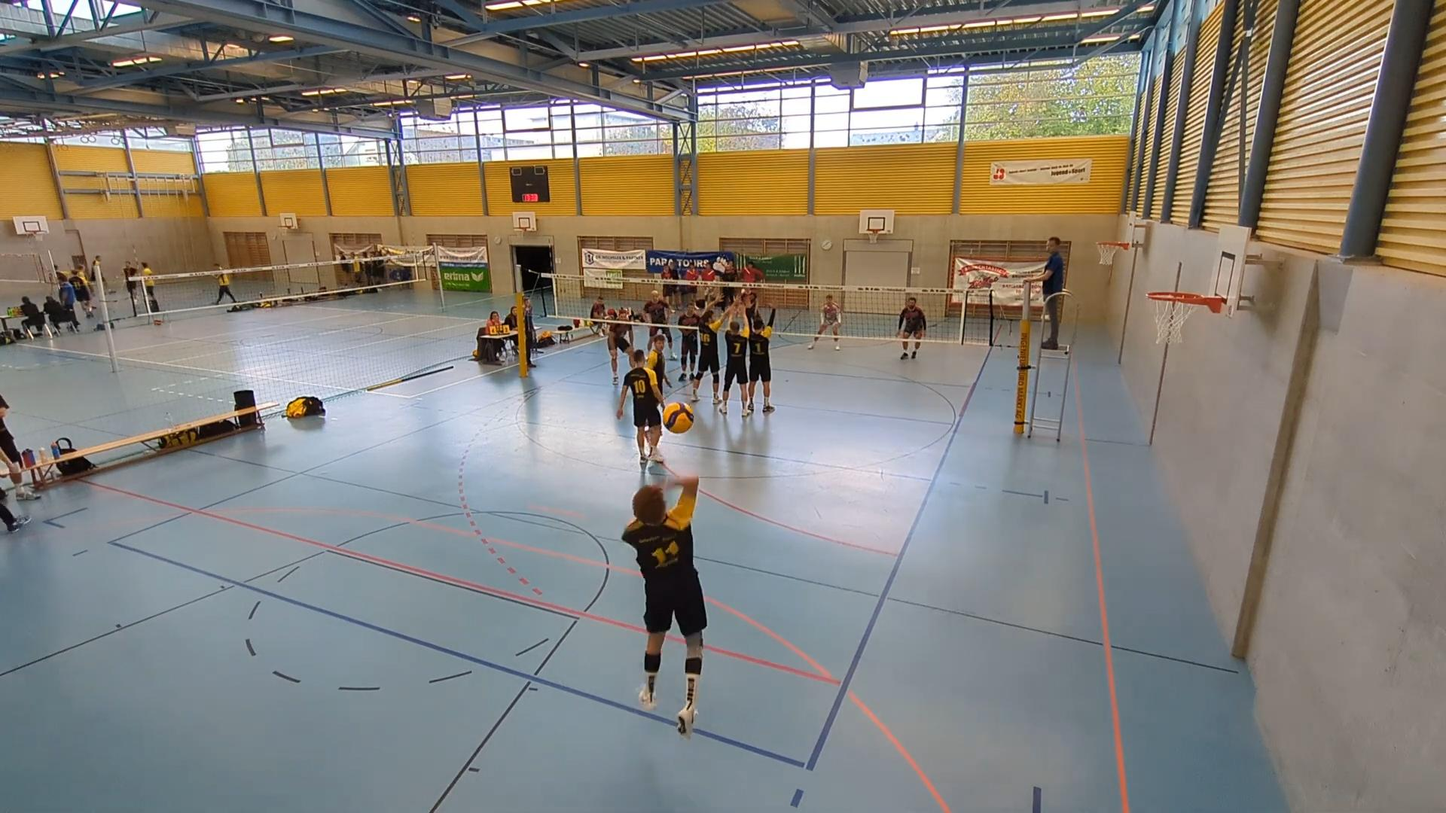battuta: (615, 466, 717, 740)
